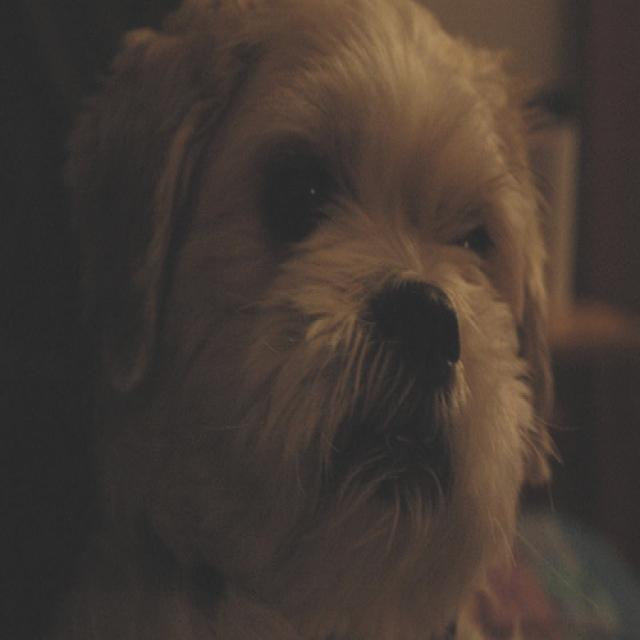Dog: (138, 0, 558, 623)
